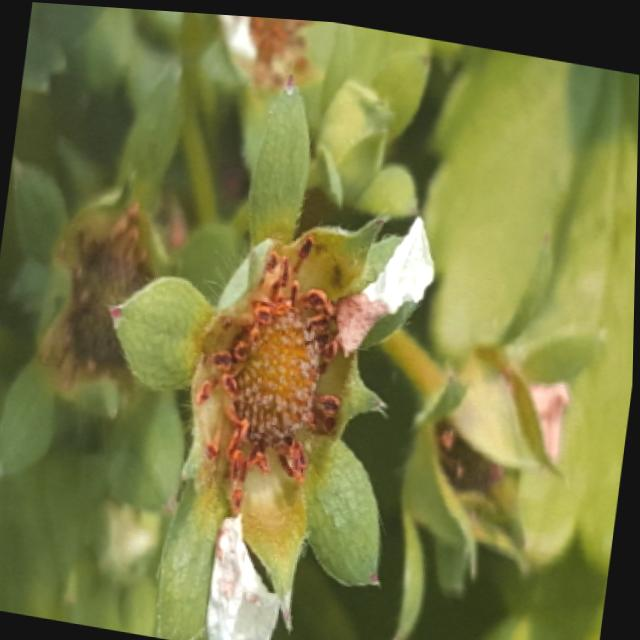Blossom Blight: (189, 222, 348, 513)
